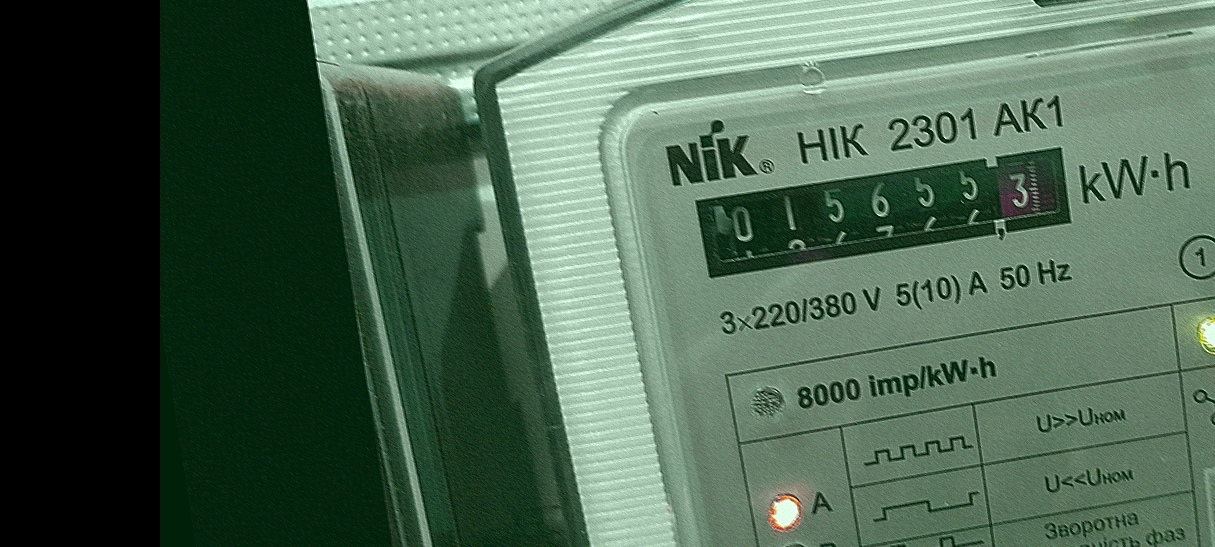0: (725, 203, 756, 247)
1: (776, 195, 801, 236)
3: (1005, 173, 1030, 211)
5: (818, 189, 847, 227), (910, 176, 938, 211), (957, 170, 980, 204)
6: (865, 183, 893, 222)
screen: (678, 128, 1088, 299)
